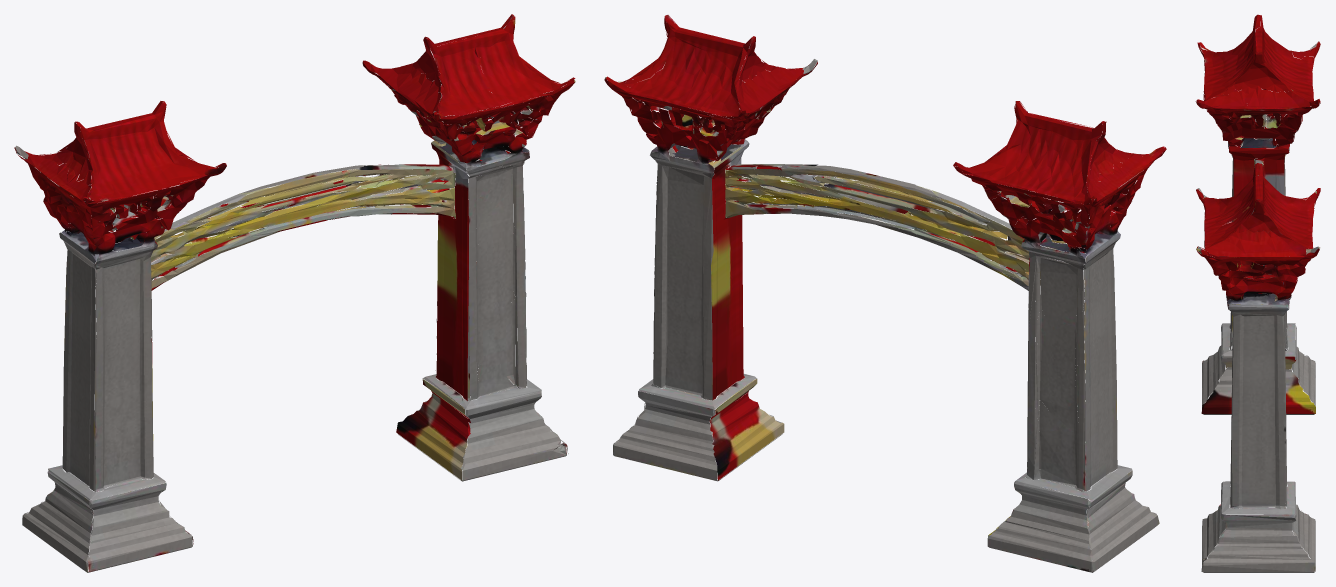
The model's file is 01_gate_paifang.glb.
The picture shows the model from 3 angles, left to right: view 1: azimuth 30°, elevation 25°; view 2: azimuth 150°, elevation 25°; view 3: azimuth 270°, elevation 25°; orthographic projection. The views are drawn at different scales.
Parts seen in each view (by area): view 1: 01_gate_paifang.ply; view 2: 01_gate_paifang.ply; view 3: 01_gate_paifang.ply.
Boxes of the visible parts, x1=… form: 01_gate_paifang.ply: x1=14, y1=14, x2=575, y2=572; 01_gate_paifang.ply: x1=604, y1=15, x2=1166, y2=572; 01_gate_paifang.ply: x1=1195, y1=14, x2=1320, y2=572.
Size of the model in its own units: 1 by 0.8224 by 0.2572.
Materials: 1 (1 with a texture image).
